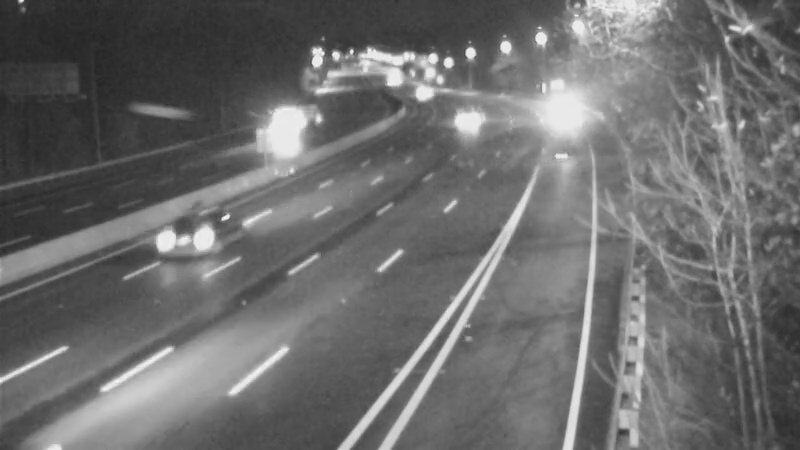vehicle: (135, 202, 215, 282), (398, 69, 448, 119), (439, 96, 489, 146), (530, 92, 580, 142), (262, 104, 312, 154)
